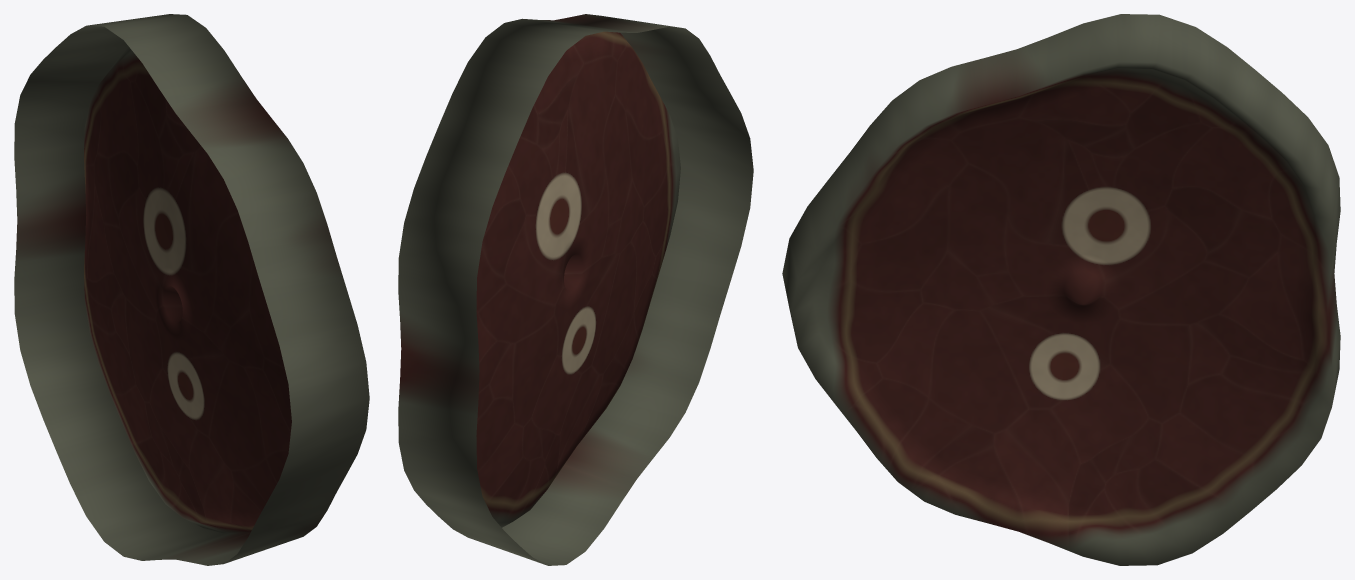
The model's file is SM_WoundCap_Forearm_337.fbx.
The picture shows the model from 3 angles, left to right: view 1: azimuth 30°, elevation 25°; view 2: azimuth 150°, elevation 25°; view 3: azimuth 270°, elevation 25°; orthographic projection.
Parts seen in each view (by area): view 1: SM_WoundCap_Forearm_337; view 2: SM_WoundCap_Forearm_337; view 3: SM_WoundCap_Forearm_337.
Boxes of the visible parts, x1=… form: SM_WoundCap_Forearm_337: x1=14, y1=14, x2=369, y2=565; SM_WoundCap_Forearm_337: x1=398, y1=14, x2=753, y2=565; SM_WoundCap_Forearm_337: x1=782, y1=14, x2=1340, y2=565.
Bounding box in the file's own units: 0.016 × 0.0937 × 0.0962.
1 material, 1 textured.
